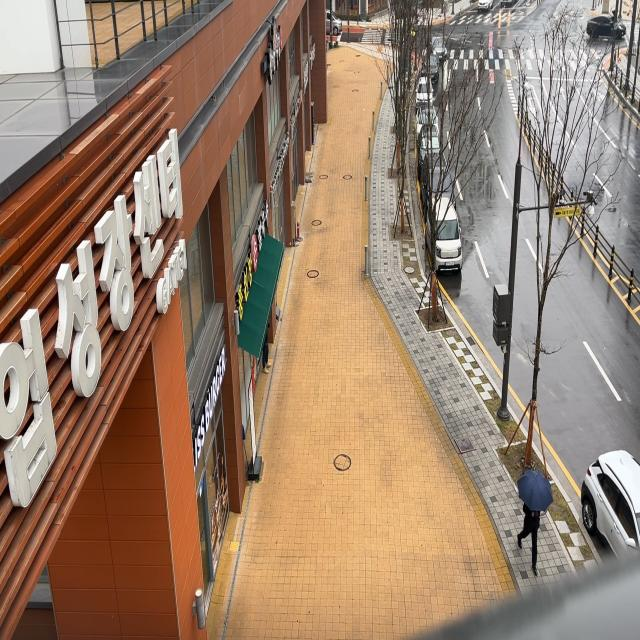Car: (566, 446, 640, 571), (418, 198, 465, 277), (418, 143, 461, 209), (580, 12, 632, 46), (414, 122, 444, 170), (429, 27, 461, 61), (411, 100, 443, 134), (412, 76, 438, 113), (324, 1, 348, 41), (422, 52, 443, 82)
